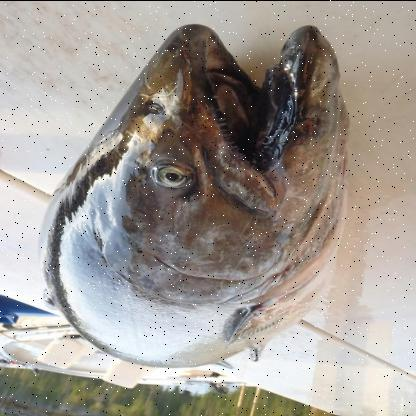fish: (37, 21, 358, 371)
